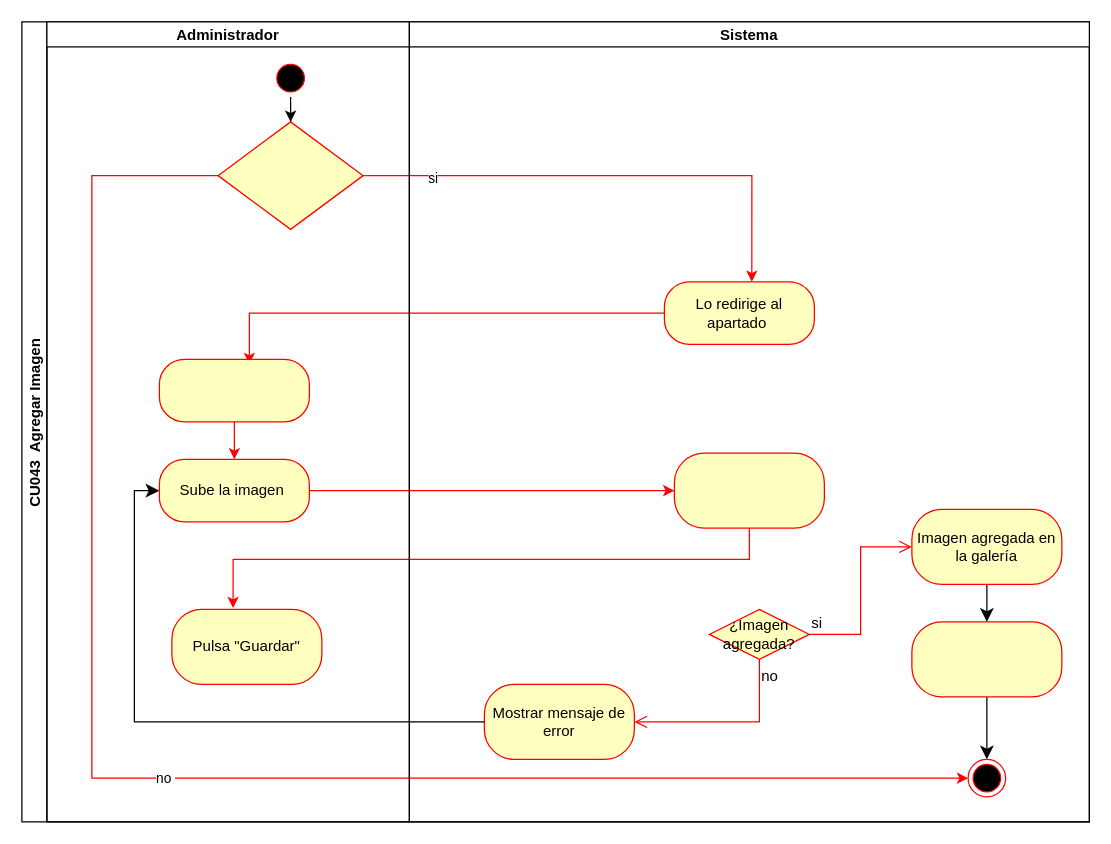
This 1111x844 diagram has some shape labels left out. Here are the shapes that lost their labels. From the top down, the centre of each, then its label:
(x=290, y=175): Pulsar el aparatado de "Galería"
(x=233, y=390): Pulsa botón "Subir imagen"
(x=748, y=490): Muestra botón "Guardar"
(x=986, y=659): Mostrar mensaje de éxito
